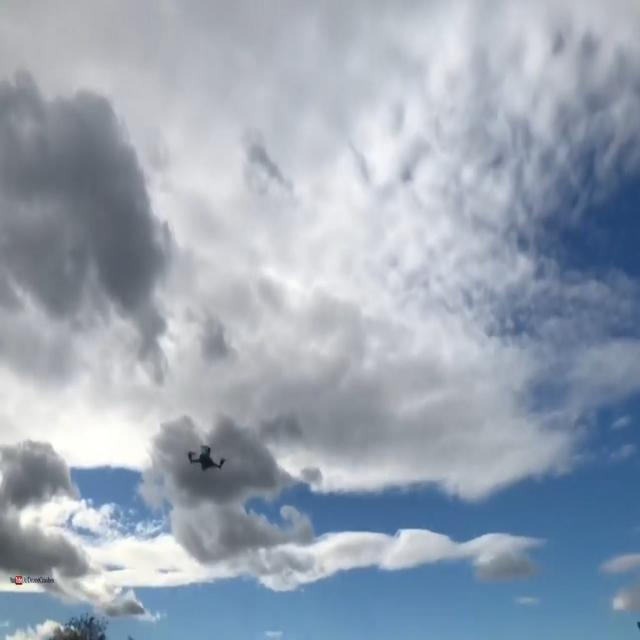Vehicle: (187, 436, 223, 479)
